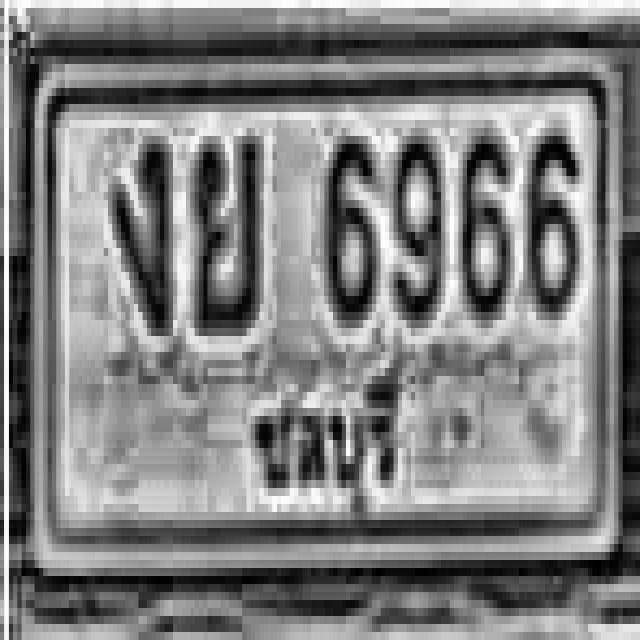license-plate: (27, 48, 624, 579)
